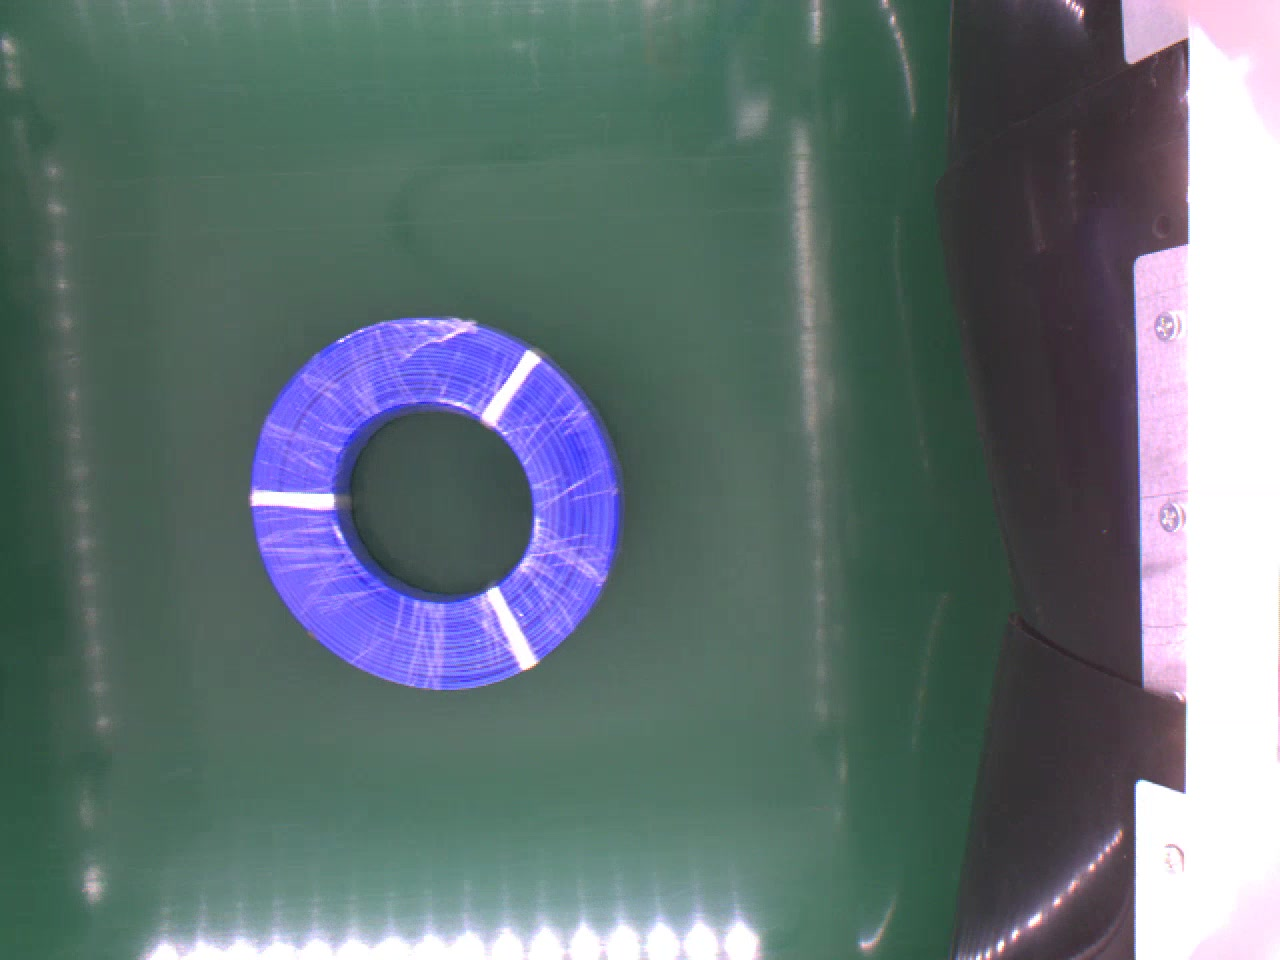blue: (240, 314, 623, 697)
